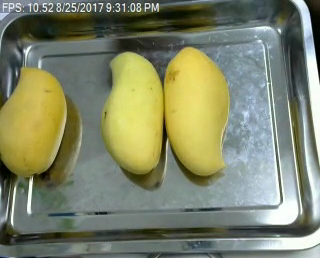Mango: (162, 46, 229, 175), (102, 53, 163, 174), (0, 67, 67, 177)
